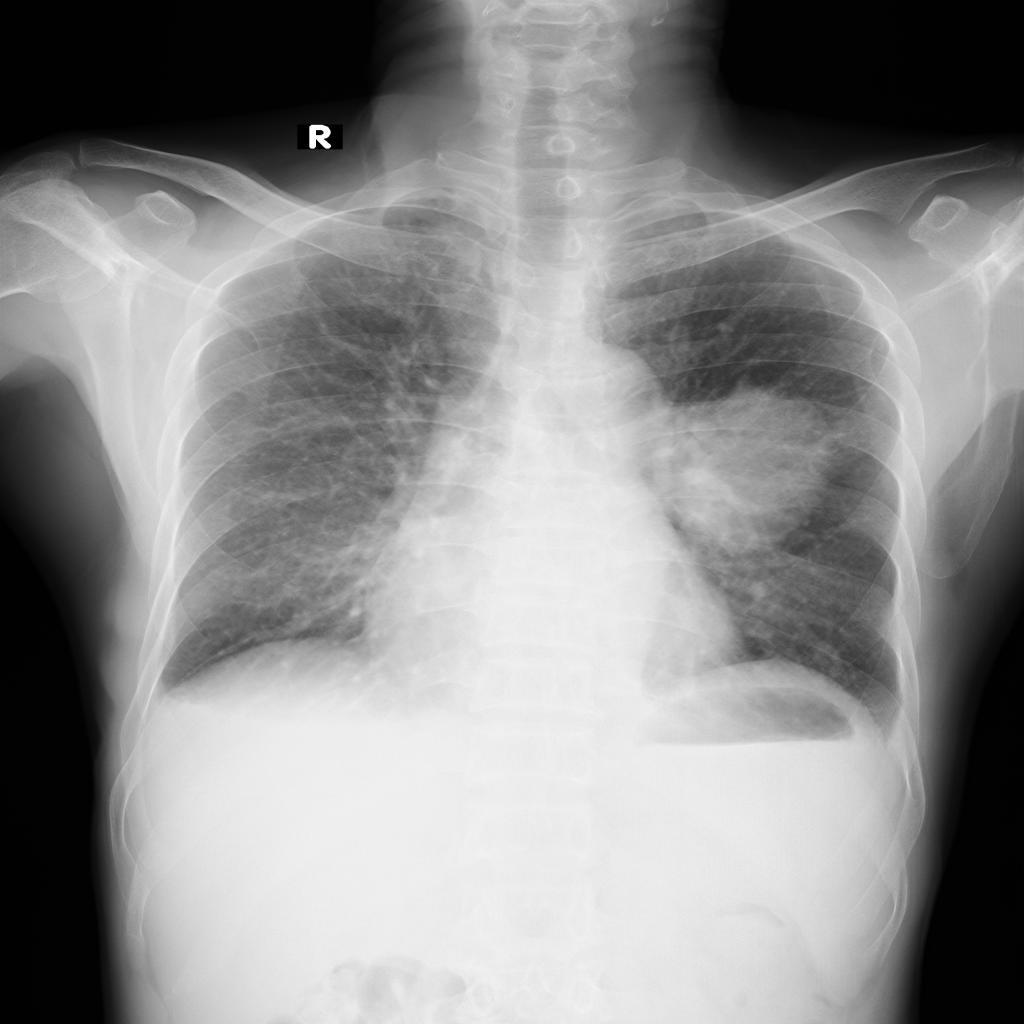Nodule: (655, 403, 834, 558)
